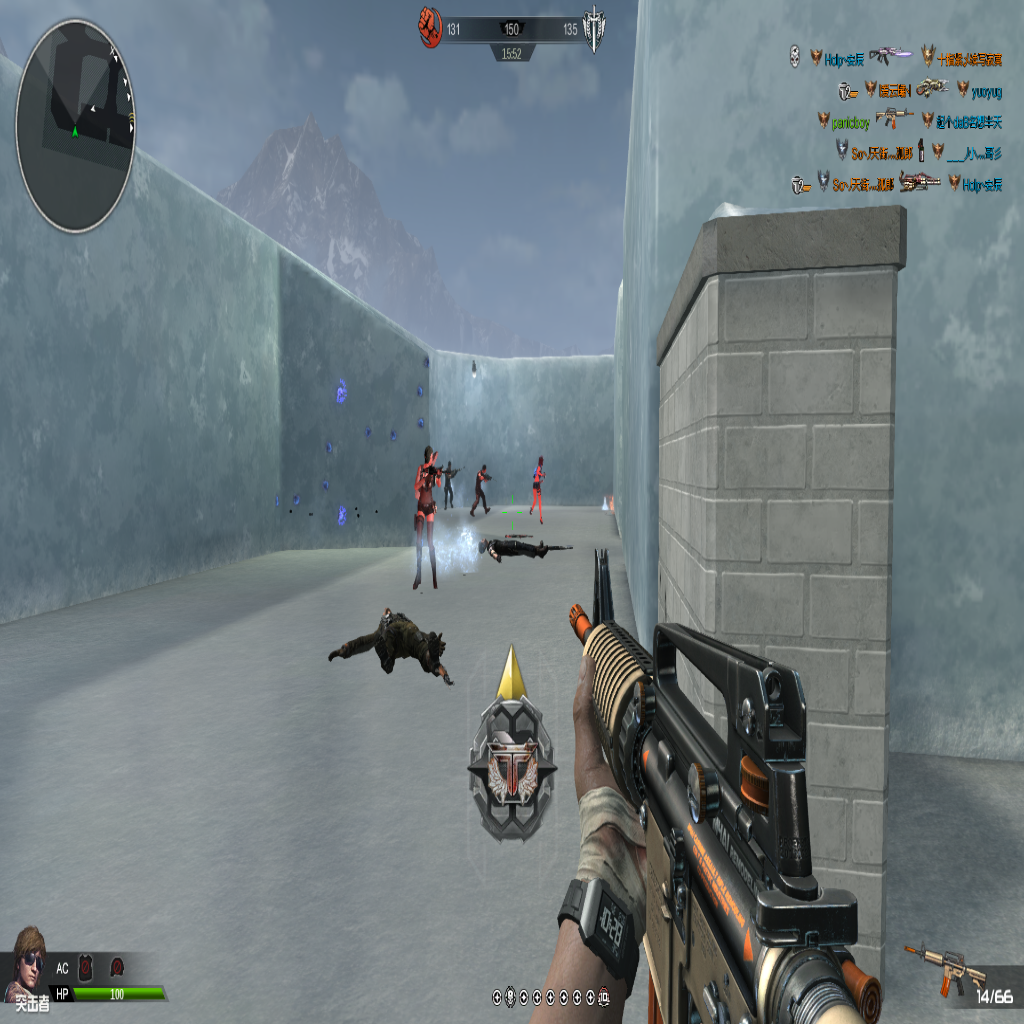ct: (413, 436, 442, 594), (470, 461, 493, 516), (530, 454, 546, 522), (443, 460, 456, 509)
